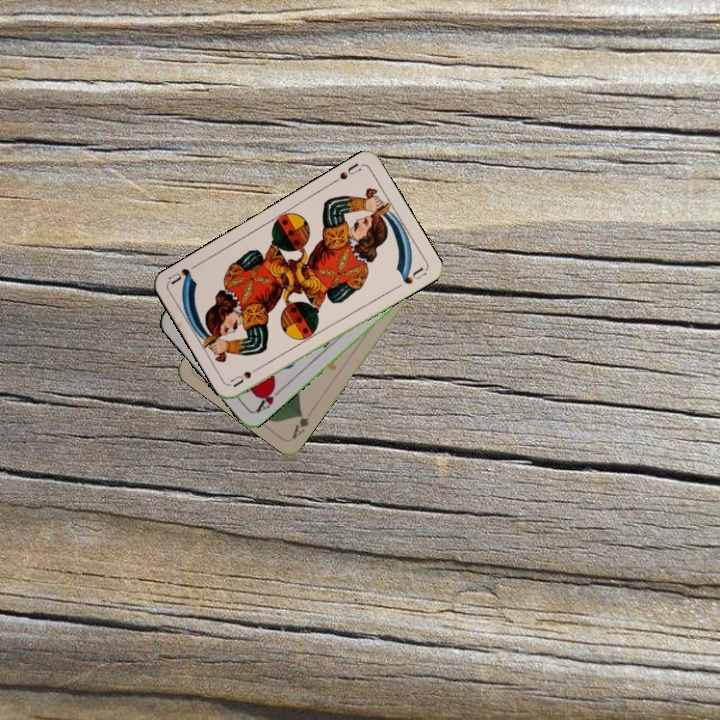GA: (287, 409, 312, 442)
HA: (251, 382, 285, 415)
SU: (227, 361, 265, 390), (328, 159, 365, 187)
